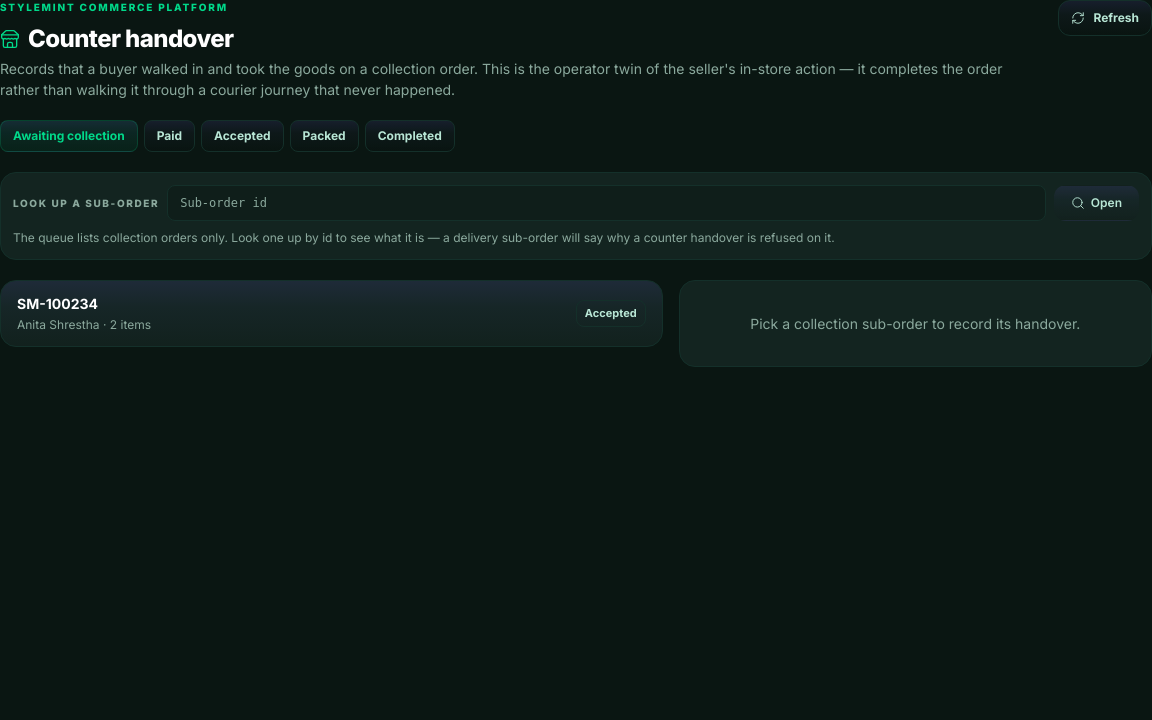
Test: CounterHandoverPage › confirms the completion without inventing a time the backend did not record
The image size is (1152, 720).
Click the text "SM-100234" at (58, 304), box [17, 295, 98, 312]
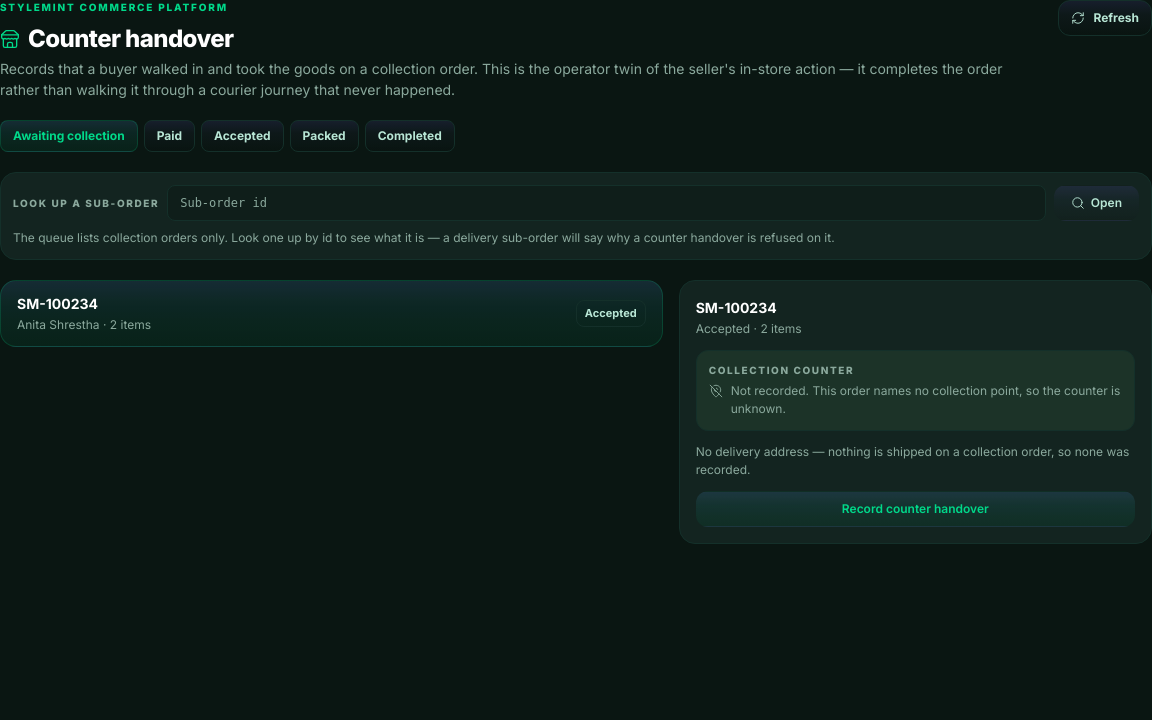
Click the button "Record counter handover" at (915, 509), box [696, 491, 1135, 527]
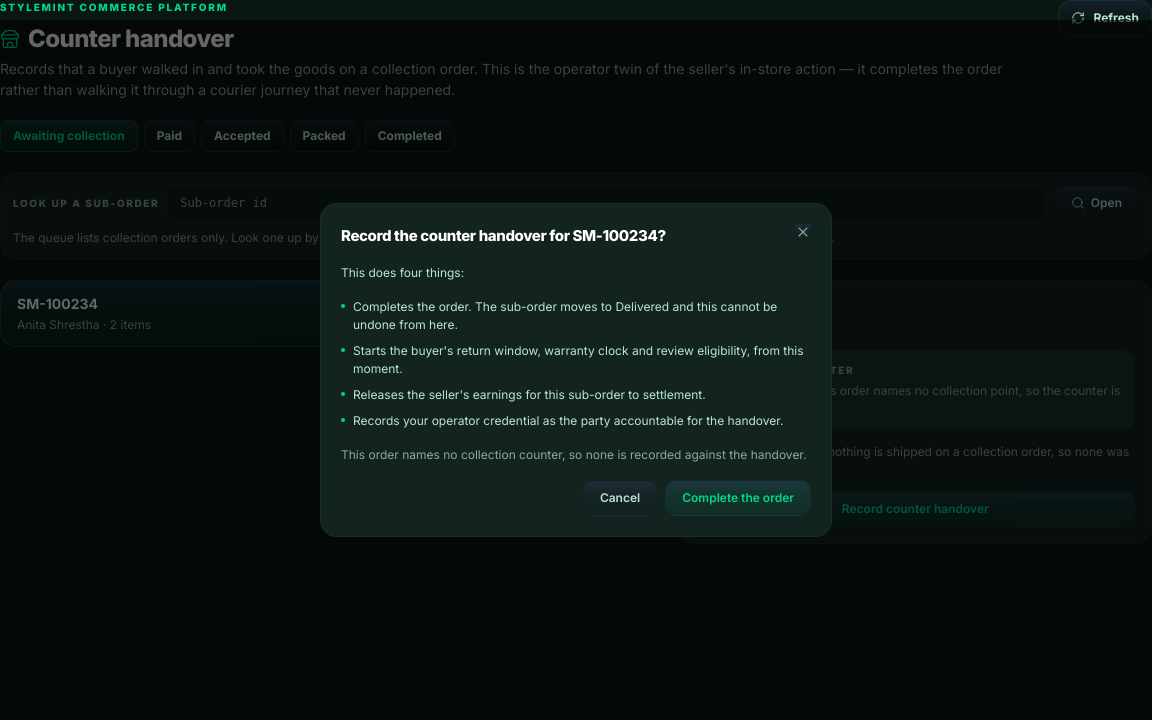
Click the button "Complete the order" at (738, 498), box [665, 480, 811, 516]
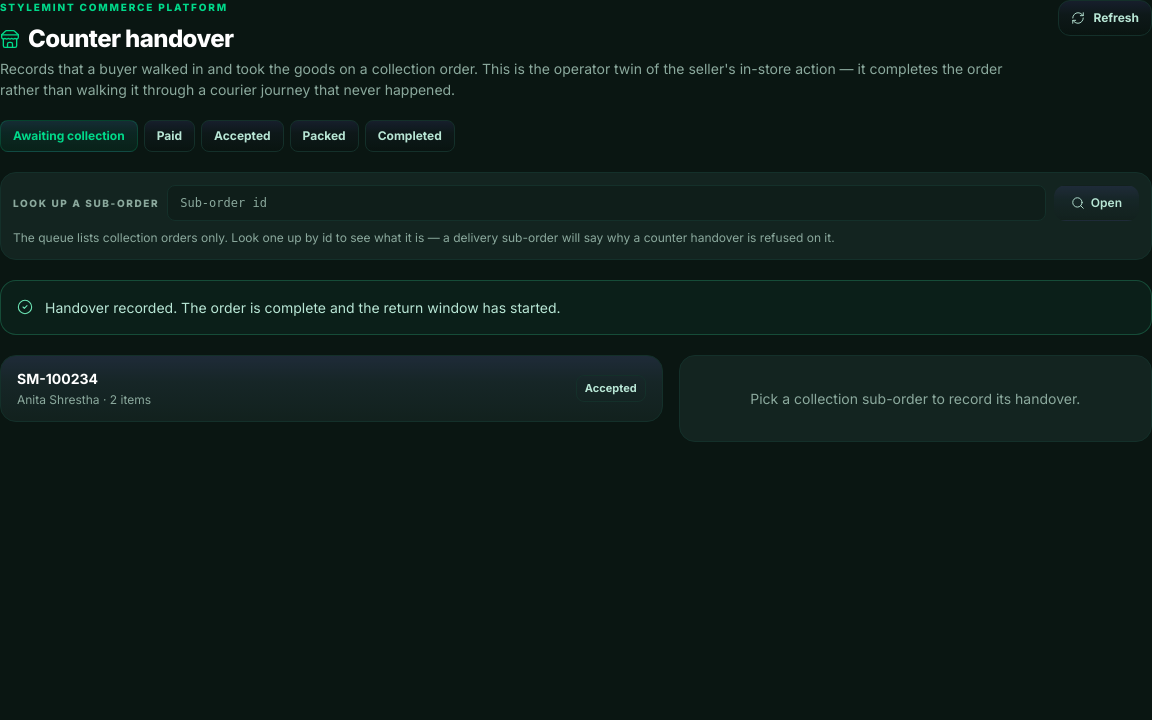
Expected: the text "Handover recorded." is shown, [45, 299, 561, 316]
